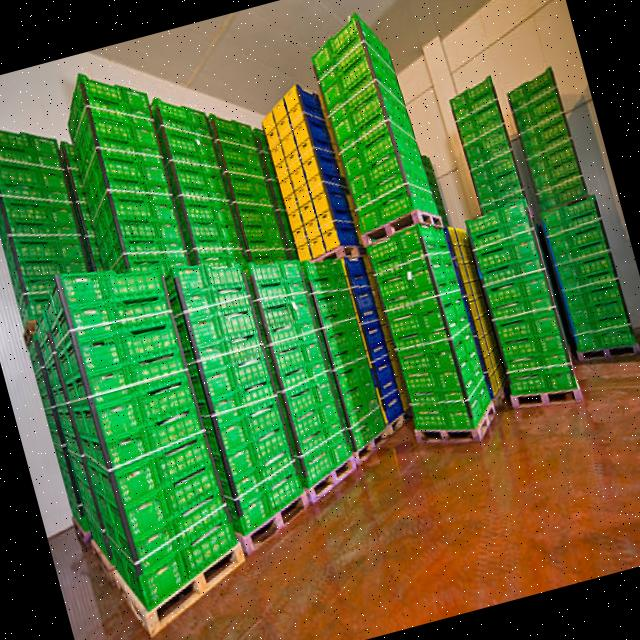Wooden-Pallets: (133, 533, 255, 640), (229, 479, 319, 568), (351, 202, 431, 257), (306, 447, 357, 505), (407, 415, 483, 450), (505, 383, 588, 415)
